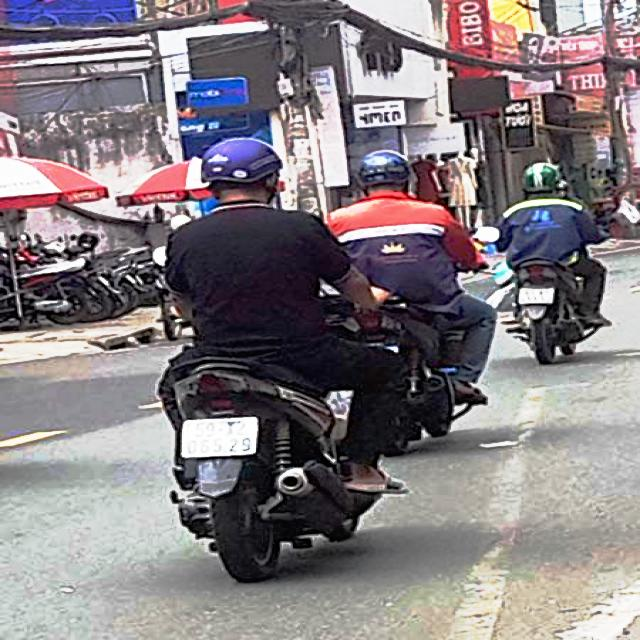license_plate: (178, 417, 262, 458)
